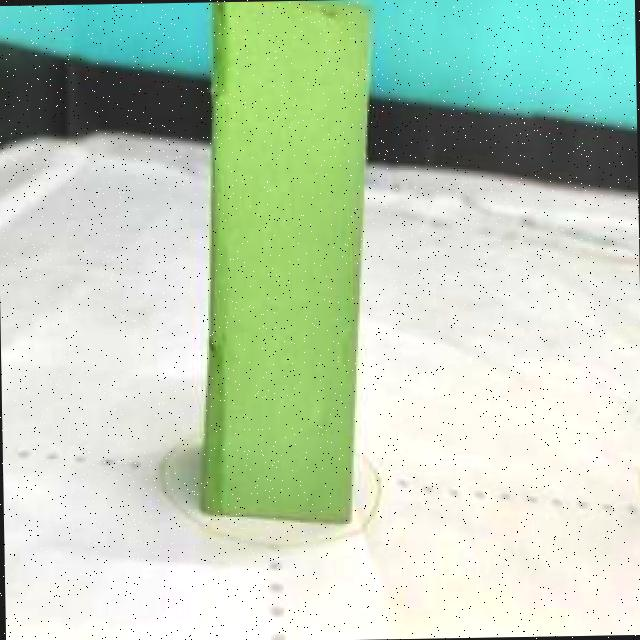greenbox: (187, 0, 384, 526)
